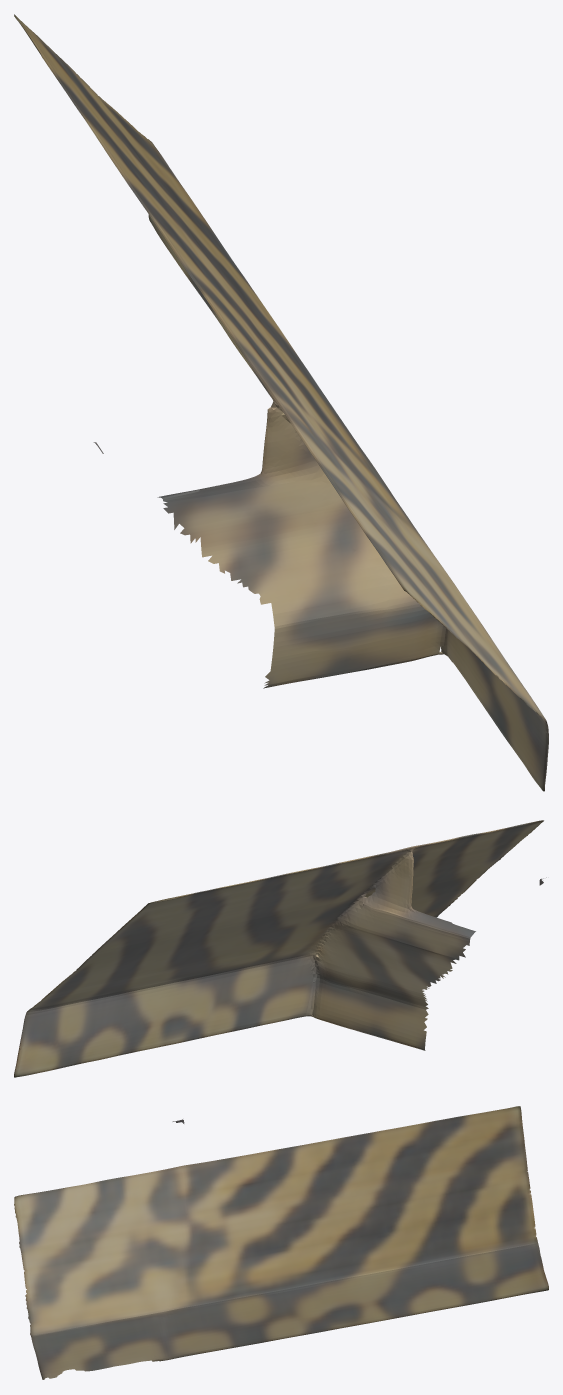
Rendered from guard-right-initializer.glb.
The picture shows the model from 3 angles, top to bottom: view 1: azimuth 30°, elevation 25°; view 2: azimuth 150°, elevation 25°; view 3: azimuth 270°, elevation 25°; orthographic projection. The views are drawn at different scales.
Visible parts, largest first — view 1: geometry_0; view 2: geometry_0; view 3: geometry_0.
Part boxes in pixels (bbox=[...]): geometry_0: bbox=[14, 14, 548, 791]; geometry_0: bbox=[14, 820, 546, 1077]; geometry_0: bbox=[14, 1106, 548, 1379].
Size of the model in its own units: 0.9272 by 1.04 by 1.99.
